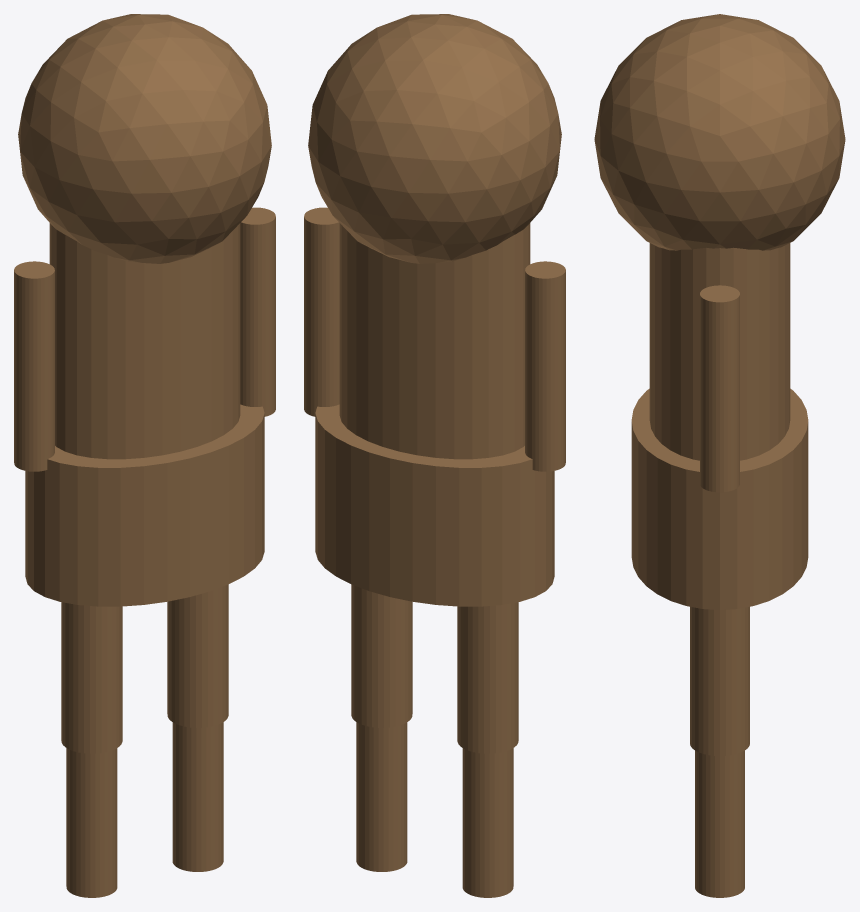
3 views of the same model, side by side, from view 1: azimuth 30°, elevation 25°; view 2: azimuth 150°, elevation 25°; view 3: azimuth 270°, elevation 25° (orthographic).
Visible parts, largest first — view 1: Torso; view 2: Torso; view 3: Torso.
Boxes of the visible parts, left/top/right/bottom form: Torso: left=14, top=14, right=275, bottom=897; Torso: left=304, top=14, right=565, bottom=897; Torso: left=594, top=14, right=845, bottom=897.
Bounding box in the file's own units: 0.58 × 1.84 × 0.5.
